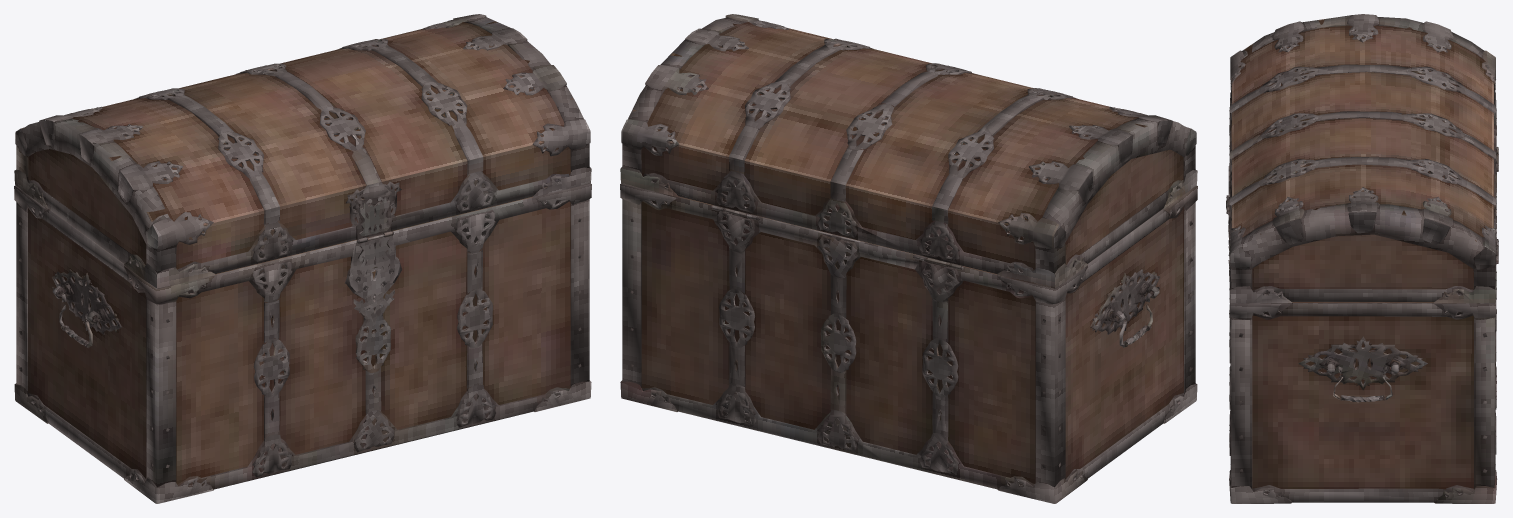
File: grounded-chest-quiet.glb
The picture shows the model from 3 angles, left to right: view 1: azimuth 30°, elevation 25°; view 2: azimuth 150°, elevation 25°; view 3: azimuth 270°, elevation 25°; orthographic projection. The views are drawn at different scales.
Parts seen in each view (by area): view 1: grounded-chest-quiet runtime mesh; view 2: grounded-chest-quiet runtime mesh; view 3: grounded-chest-quiet runtime mesh.
Boxes of the visible parts, left/top/right/bottom form: grounded-chest-quiet runtime mesh: left=14, top=14, right=591, bottom=503; grounded-chest-quiet runtime mesh: left=620, top=14, right=1197, bottom=503; grounded-chest-quiet runtime mesh: left=1226, top=14, right=1498, bottom=503.
Bounding box in the file's own units: 1.1 × 0.709 × 0.5993.
Materials: 1 (1 with a texture image).
